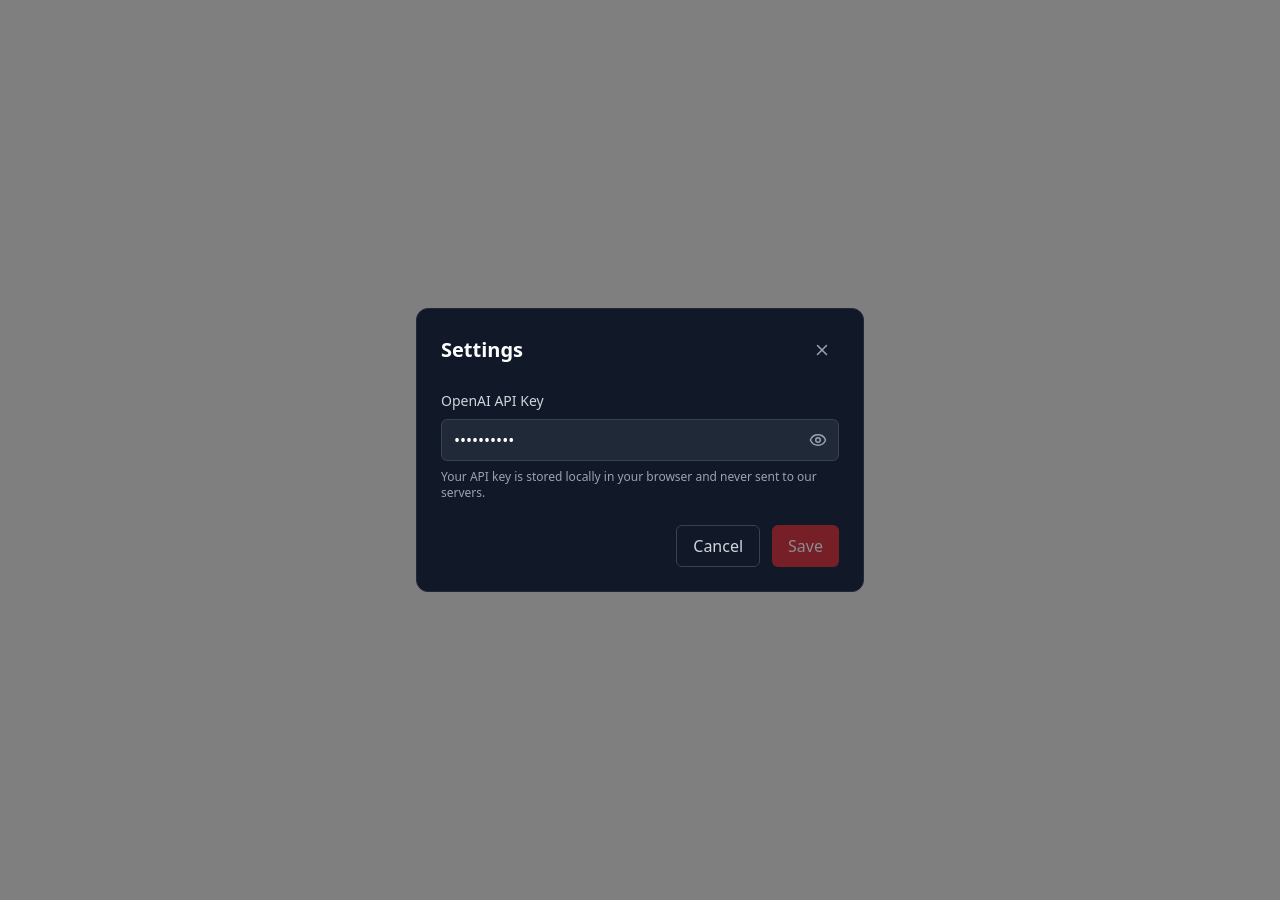
Test case: Settings › toggles API key visibility
The width and height of the screenshot is (1280, 900).
Click the button named "Show API key".
click(818, 440)  # box x1=805 y1=427 x2=831 y2=453
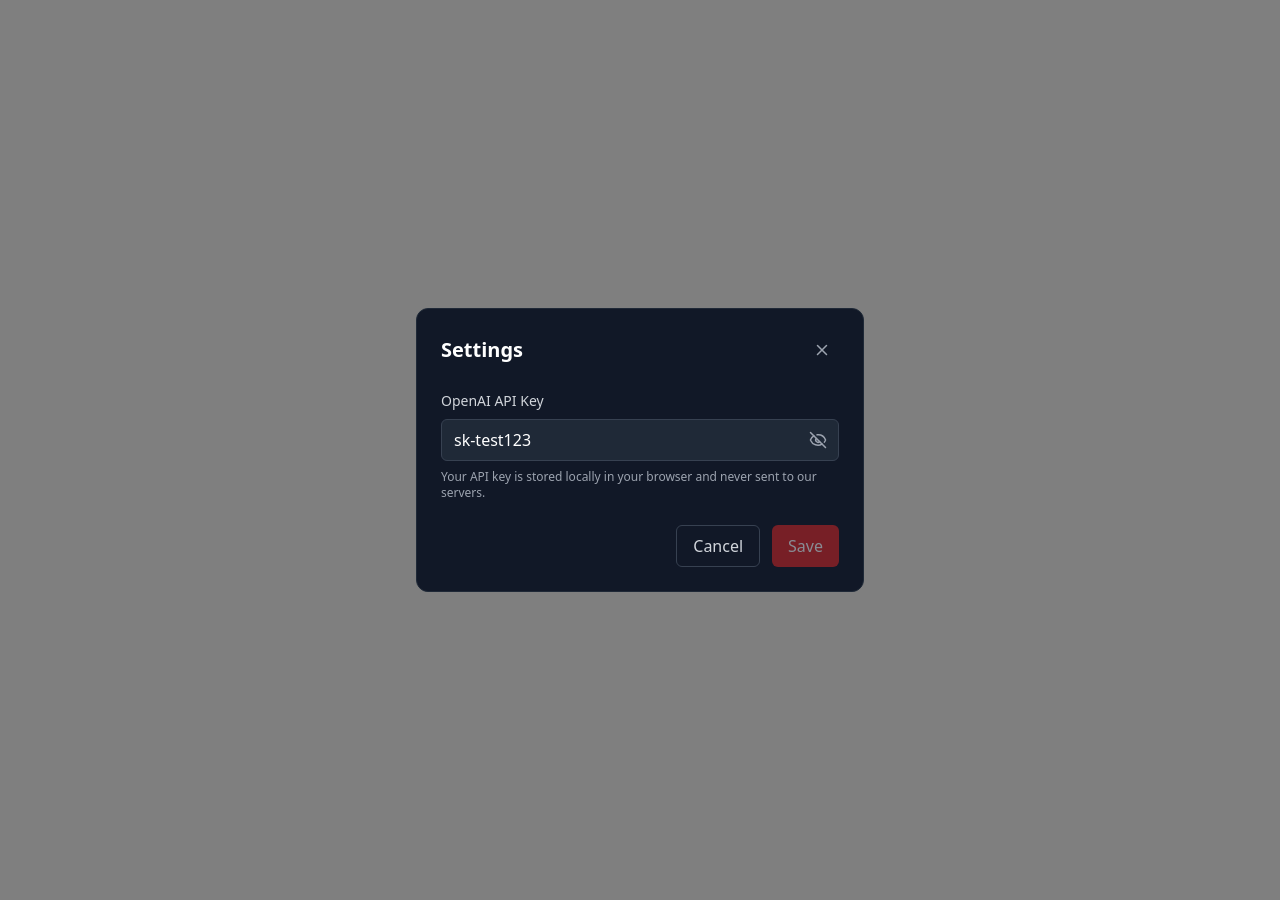
Expected: the field labelled "OpenAI API Key" shows its text, x1=441 y1=419 x2=839 y2=461
Click the button named "Show API key".
click(818, 440)  # box x1=805 y1=427 x2=831 y2=453
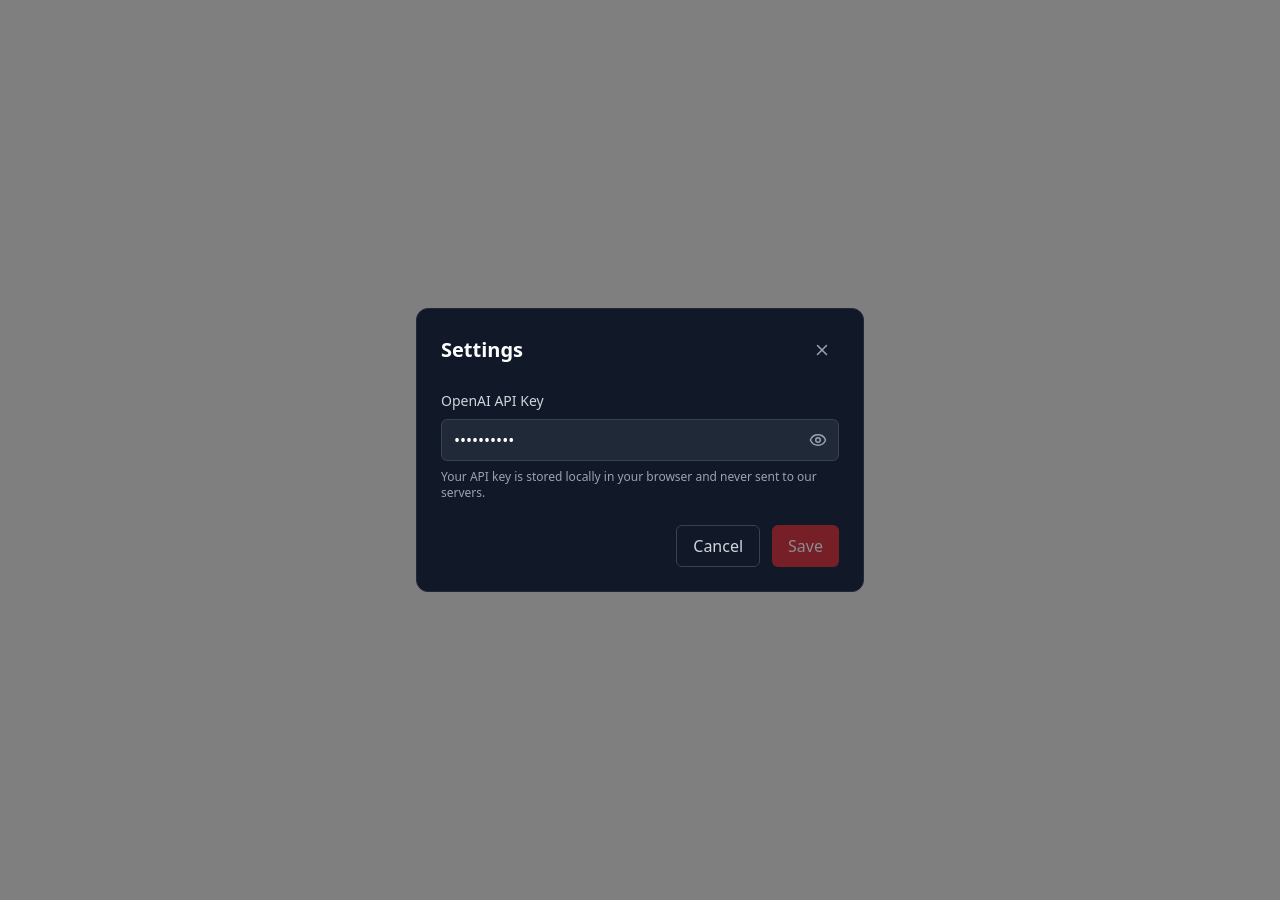
Expected: the password field labelled "OpenAI API Key" hides its text, x1=441 y1=419 x2=839 y2=461
